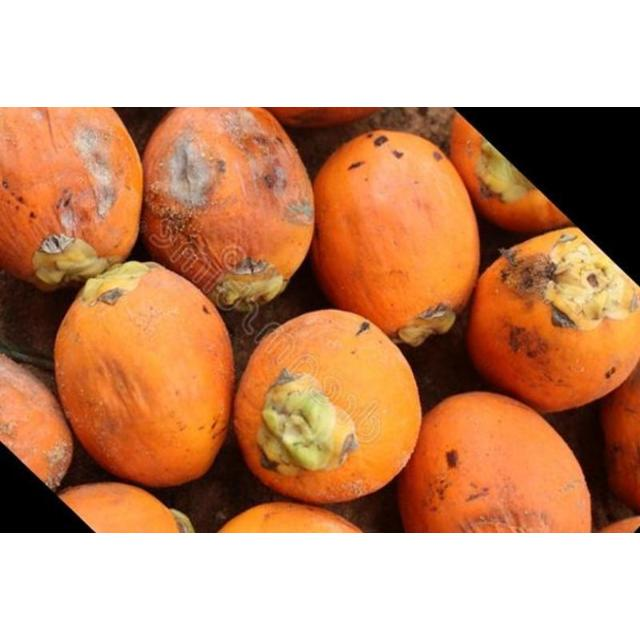good: (55, 262, 257, 490), (238, 309, 436, 506), (311, 133, 471, 345), (480, 232, 634, 402), (415, 392, 593, 534)
